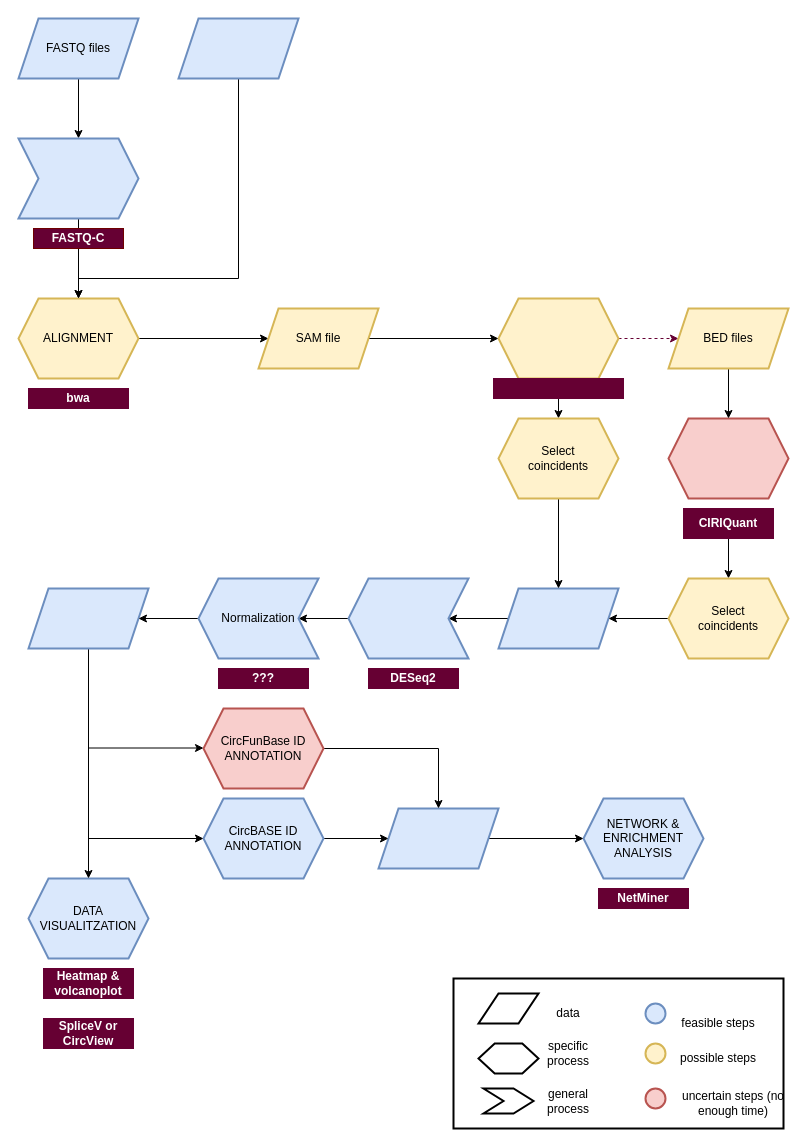
Image size: 806x1146. Some labels were removed from this diagram. Each missing label, with the centre of its shape:
Annotated DE matrix: point (438, 838)
circRNA IDENTIFICATION: point (558, 338)
CIRI2&CIRCexplorer2: point (558, 388)
DE analysis: point (408, 618)
DE matrix: point (88, 618)
Quality control: point (78, 178)
QUANTIFICATION: point (728, 458)
Read counts: point (558, 618)
RefSeq Gene file (GTF): point (238, 48)
